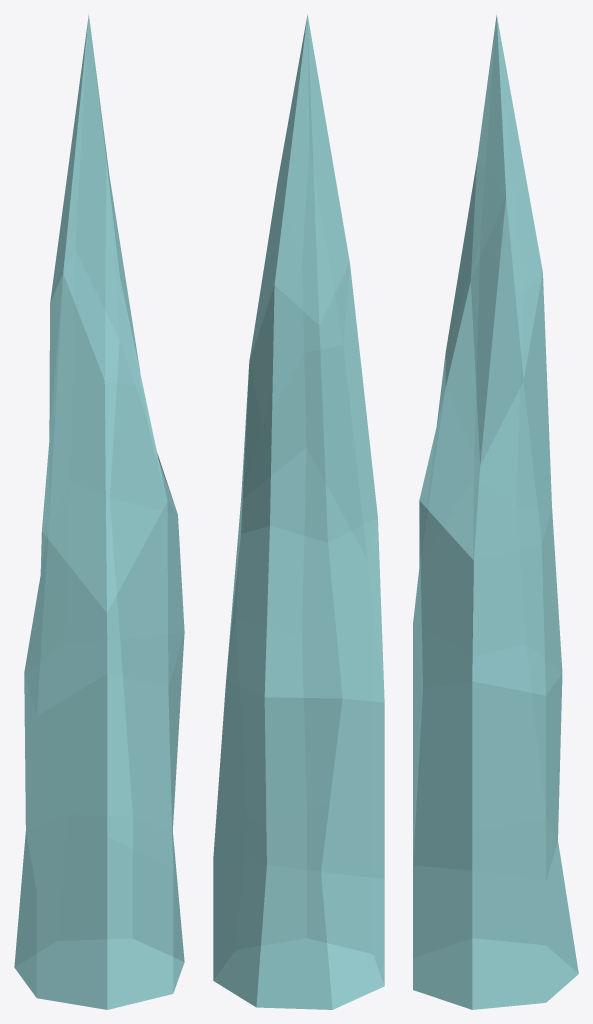
Rendered from turara.fbx.
3 views of the same model, side by side, from view 1: azimuth 30°, elevation 25°; view 2: azimuth 150°, elevation 25°; view 3: azimuth 270°, elevation 25° (orthographic).
Visible parts, largest first — view 1: Cube.005; view 2: Cube.005; view 3: Cube.005.
Part boxes in pixels (x1,y1,x2,y2): Cube.005: [14, 14, 184, 1009]; Cube.005: [213, 14, 384, 1009]; Cube.005: [413, 15, 578, 1009].
Bounding box in the file's own units: 1.82 × 11.28 × 1.77.
